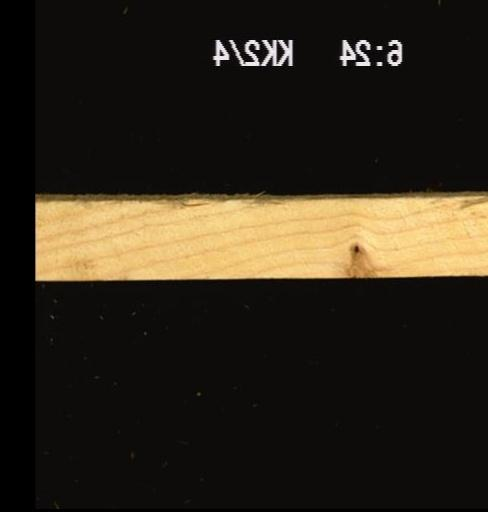small_knot: (350, 242, 360, 255)
split: (178, 198, 212, 209)
